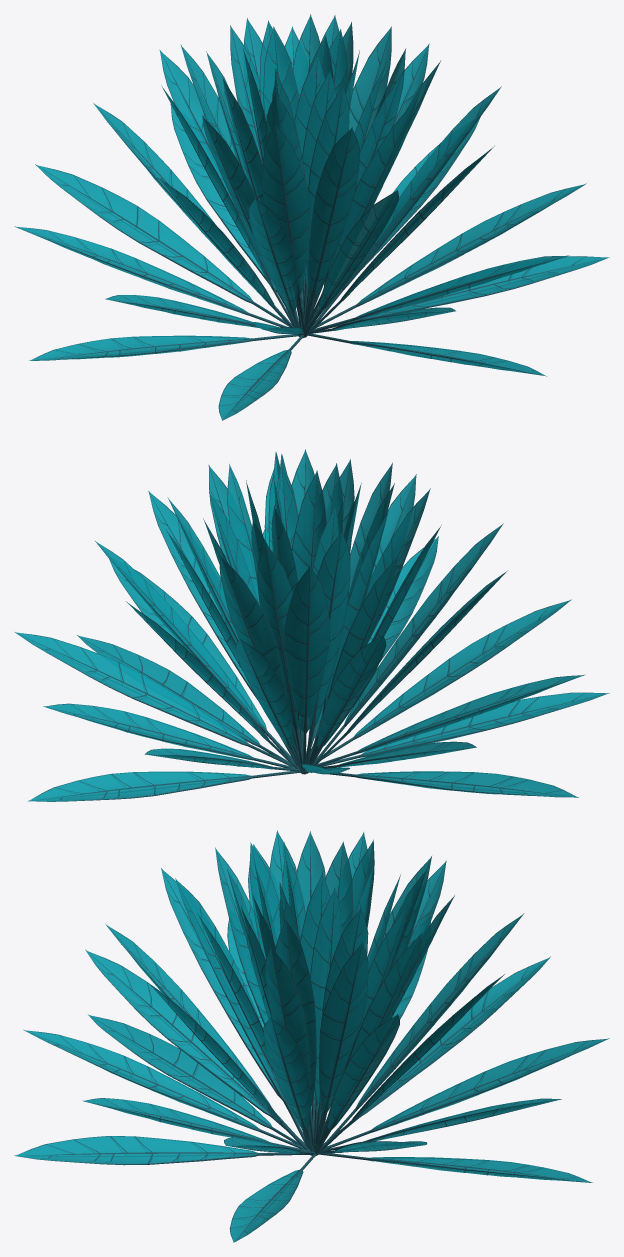
The model's file is ferne_bundle.fbx.
3 renders of one model, top to bottom at view 1: azimuth 30°, elevation 25°; view 2: azimuth 150°, elevation 25°; view 3: azimuth 270°, elevation 25°, orthographic.
Visible parts, largest first — view 1: ferne_bundle; view 2: ferne_bundle; view 3: ferne_bundle.
Boxes of the visible parts, x1=… form: ferne_bundle: x1=14, y1=14, x2=609, y2=420; ferne_bundle: x1=14, y1=449, x2=609, y2=801; ferne_bundle: x1=14, y1=830, x2=609, y2=1242.
Bounding box in the file's own units: 1365 × 704 × 1288.
